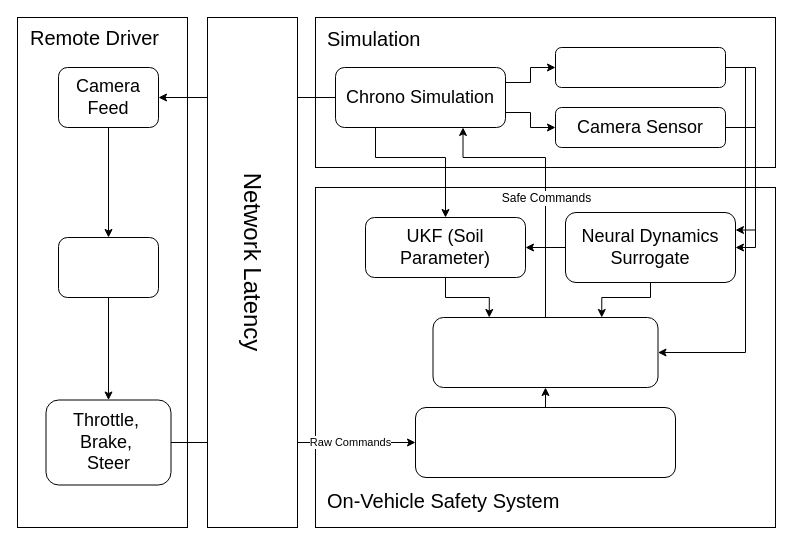
Image size: 793x545. Some labels were removed from this diagram. Here are the shapes that lost their labels. From the top down, the centre of each, then its label:
(640,67): LiDAR Sensor
(108,267): Driver
(545,352): CBF Safety Filter & QP (Shared Control)
(545,442): Delay Compensation (State Propagation)
